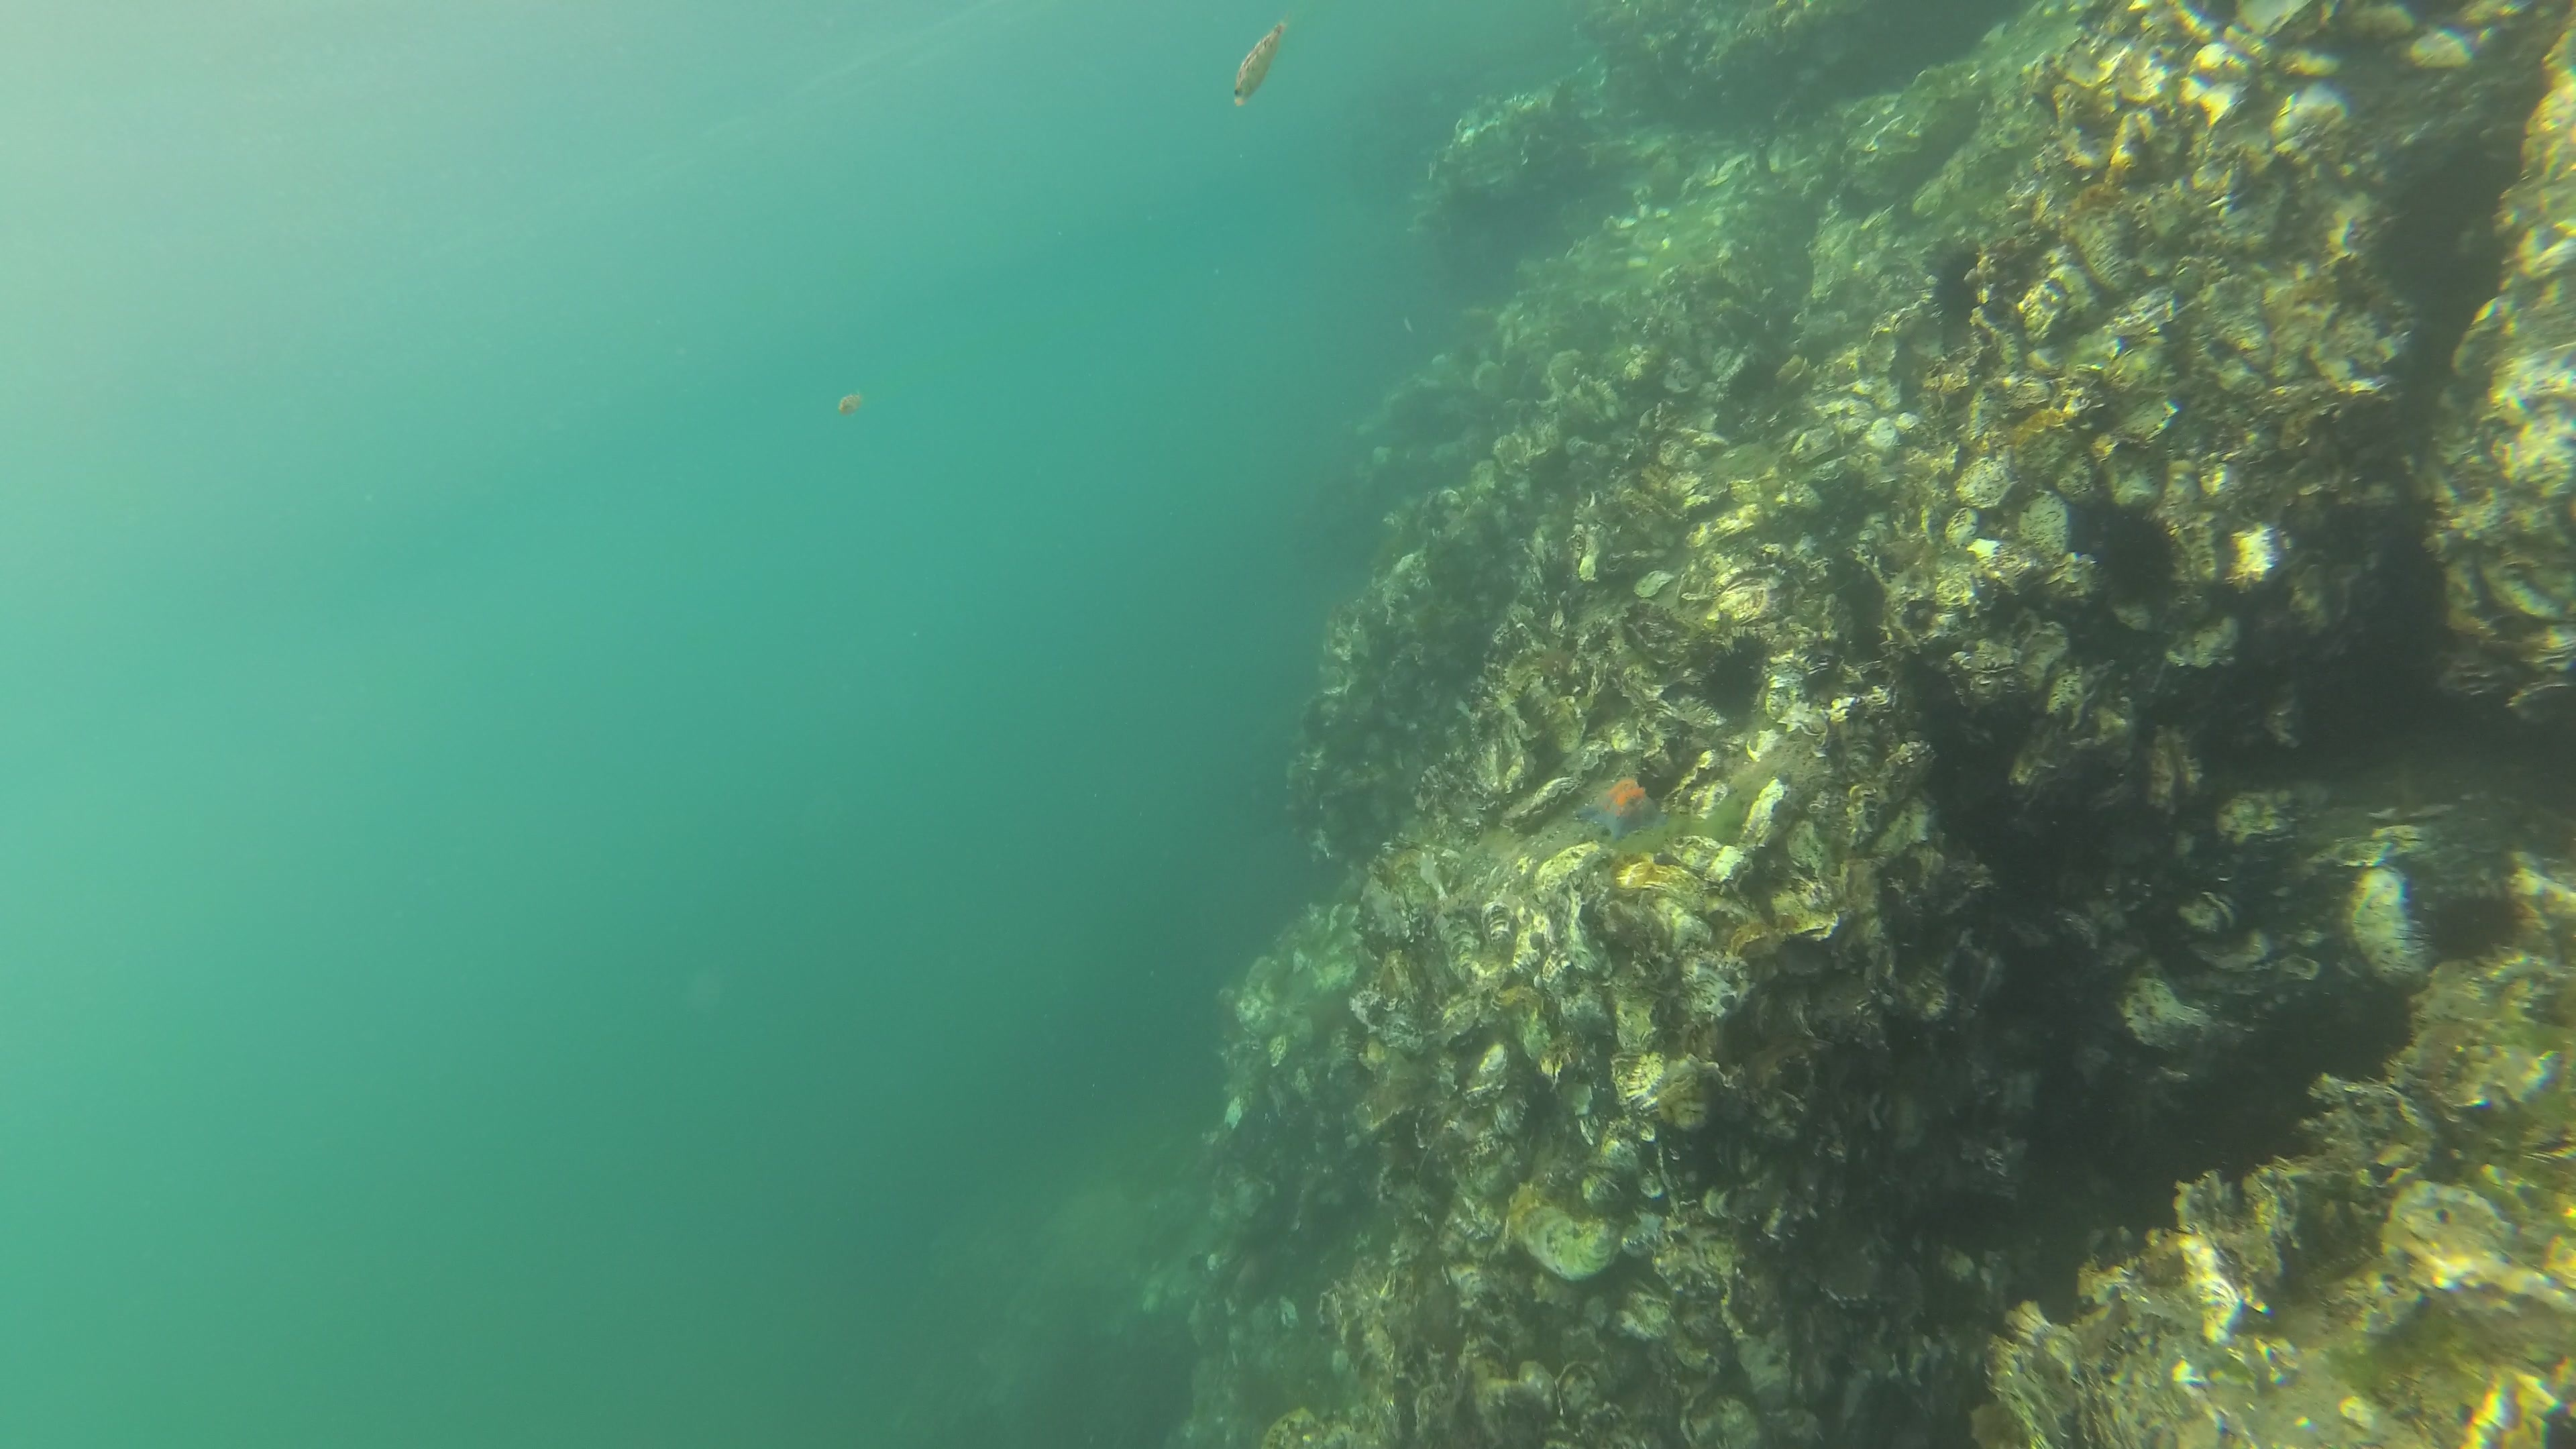echinus: (2413, 878, 2534, 968), (2093, 511, 2181, 602), (1691, 653, 1771, 725), (1930, 246, 1982, 322), (1729, 359, 1780, 396), (1840, 188, 1870, 219)
starfish: (1576, 778, 1660, 842)
